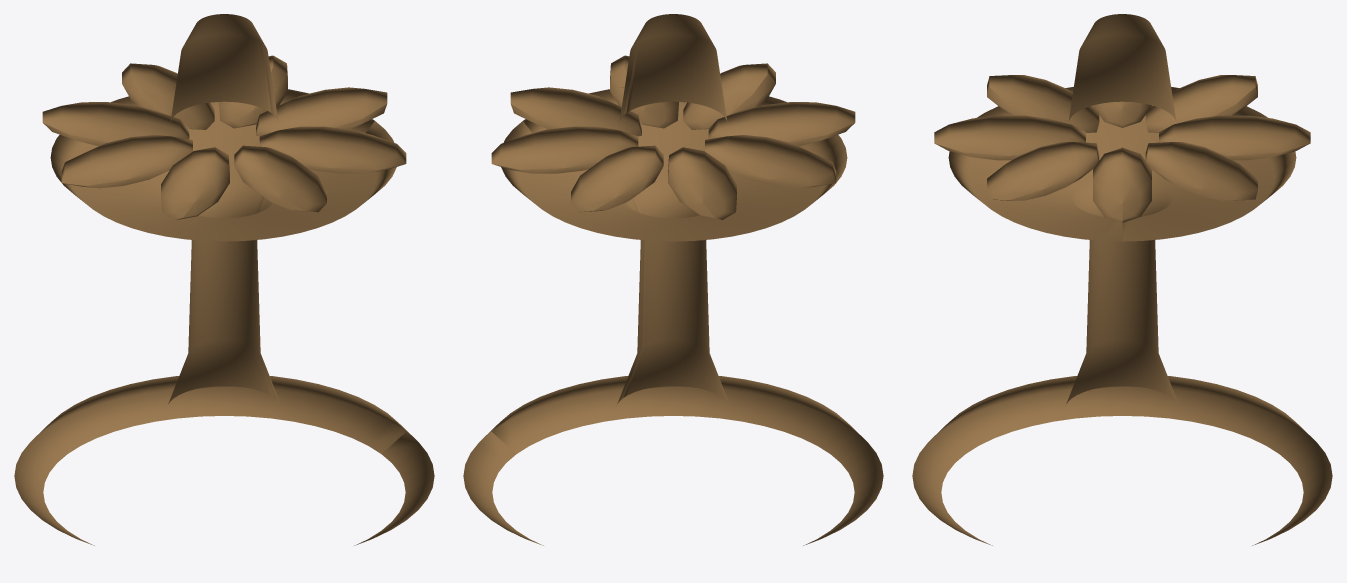
Rendered from lotus-candle-stand.glb.
3 renders of one model, left to right at view 1: azimuth 30°, elevation 25°; view 2: azimuth 150°, elevation 25°; view 3: azimuth 270°, elevation 25°, orthographic.
Parts seen in each view (by area): view 1: Lotus Candle Stand; view 2: Lotus Candle Stand; view 3: Lotus Candle Stand.
Part boxes in pixels (bbox=[...]): Lotus Candle Stand: bbox=[14, 14, 434, 545]; Lotus Candle Stand: bbox=[463, 14, 883, 545]; Lotus Candle Stand: bbox=[912, 14, 1332, 545].
Bounding box in the file's own units: 1.16 × 1.42 × 1.16.
